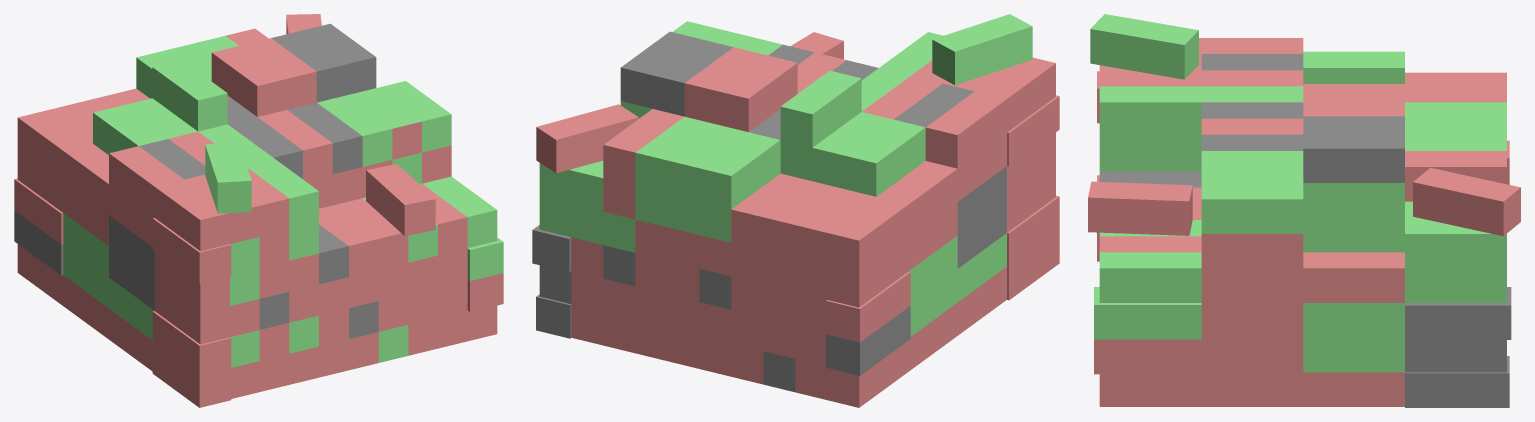
File: S_Envi_Olgk_Freighter_01i.gltf
3 renders of one model, left to right at view 1: azimuth 30°, elevation 25°; view 2: azimuth 150°, elevation 25°; view 3: azimuth 270°, elevation 25°, orthographic. The views are drawn at different scales.
Parts seen in each view (by area): view 1: S_Envi_Olgk_Freighter_01i; view 2: S_Envi_Olgk_Freighter_01i; view 3: S_Envi_Olgk_Freighter_01i.
Boxes of the visible parts, box(x1,y1,x2,y2) form: S_Envi_Olgk_Freighter_01i: box(14, 14, 503, 407); S_Envi_Olgk_Freighter_01i: box(532, 14, 1059, 407); S_Envi_Olgk_Freighter_01i: box(1088, 14, 1520, 407).
Size of the model in its own units: 30.68 by 21 by 34.02.
